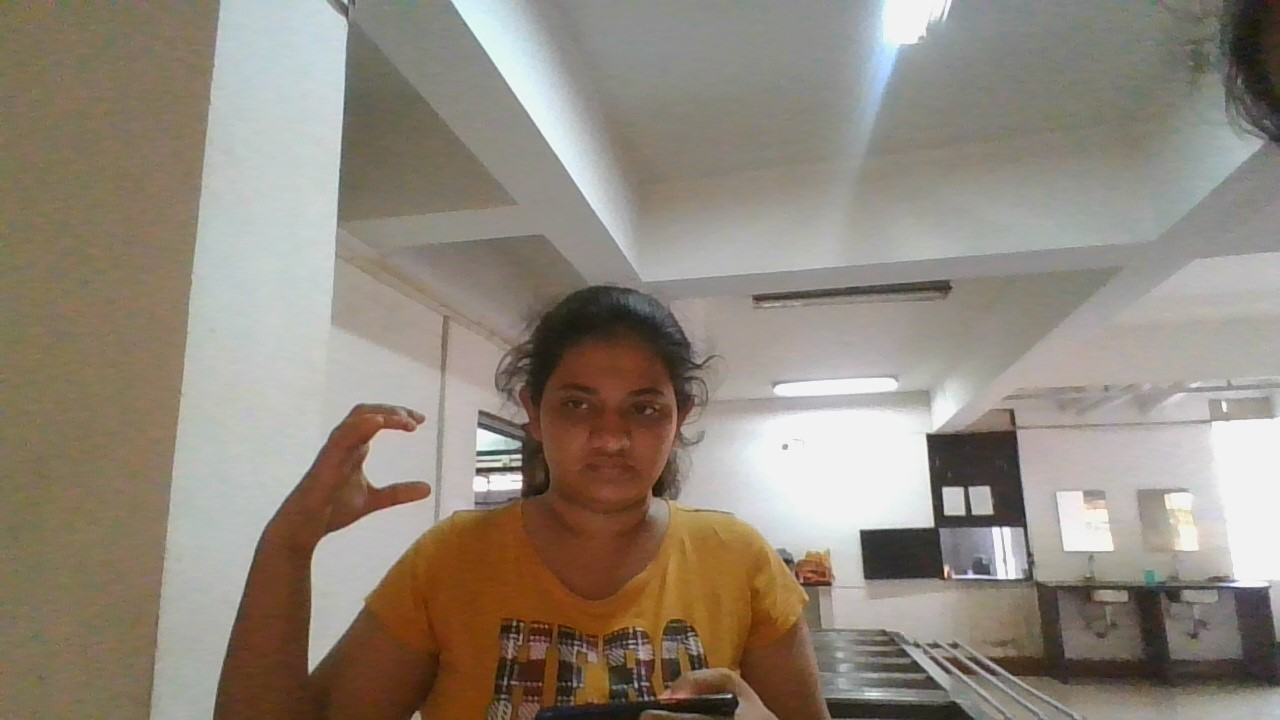c: (252, 388, 439, 557)
